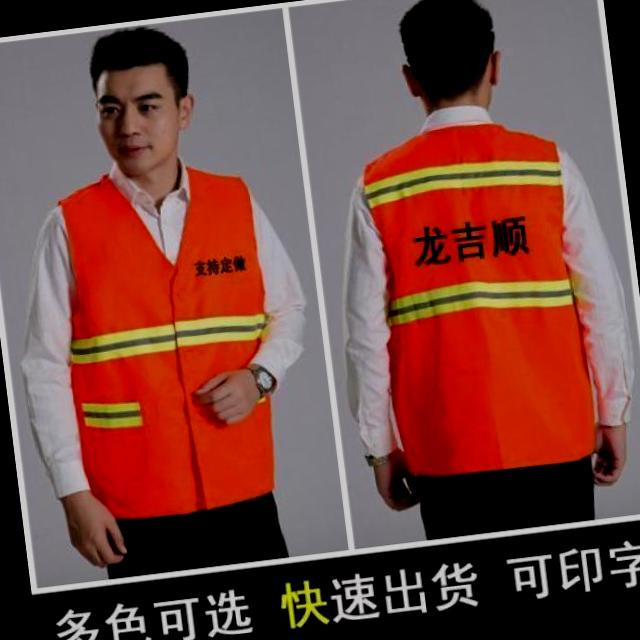no-gloves: (160, 352, 270, 455), (36, 464, 121, 574)
no-helmet: (61, 18, 217, 208), (362, 0, 522, 158)
vest: (347, 107, 608, 484), (44, 154, 288, 529)
